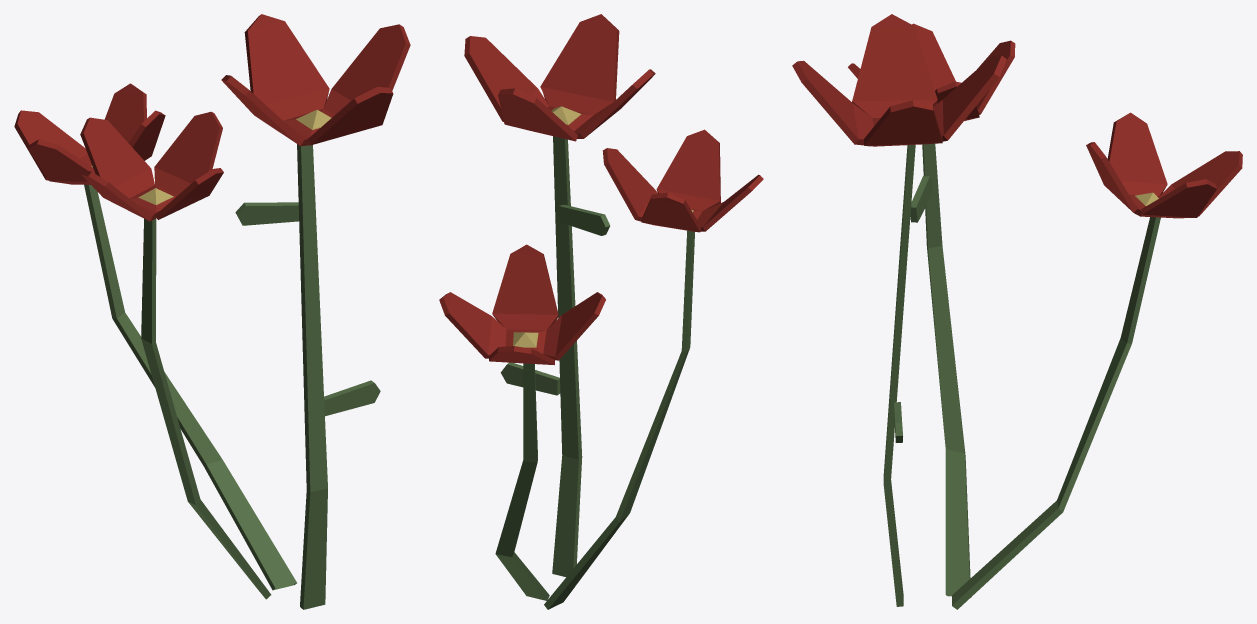
The model's file is flower.obj.
The picture shows the model from 3 angles, left to right: view 1: azimuth 30°, elevation 25°; view 2: azimuth 150°, elevation 25°; view 3: azimuth 270°, elevation 25°; orthographic projection. The views are drawn at different scales.
Visible parts, largest first — view 1: Flowers; view 2: Flowers; view 3: Flowers.
Part boxes in pixels (left/top/right/bottom): Flowers: left=14, top=14, right=410, bottom=609; Flowers: left=439, top=14, right=763, bottom=609; Flowers: left=792, top=14, right=1242, bottom=609.
Bounding box in the file's own units: 0.4895 × 0.8289 × 0.6137.
3 materials, 3 textured.
